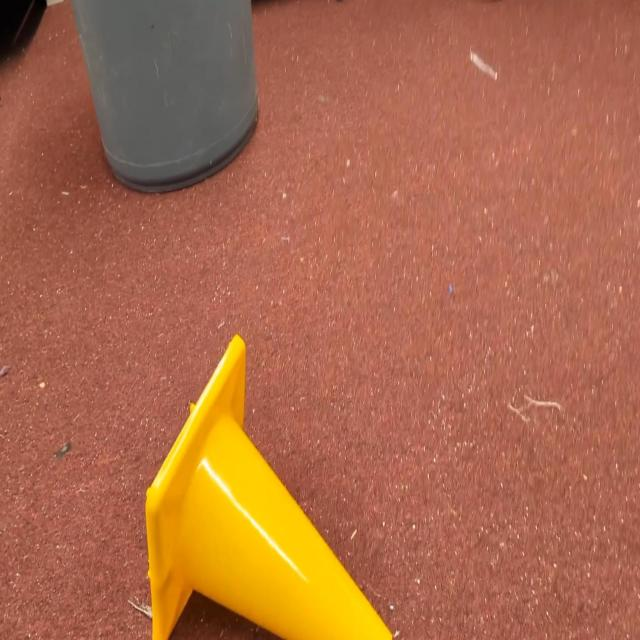frc_cone: (144, 335, 392, 637)
